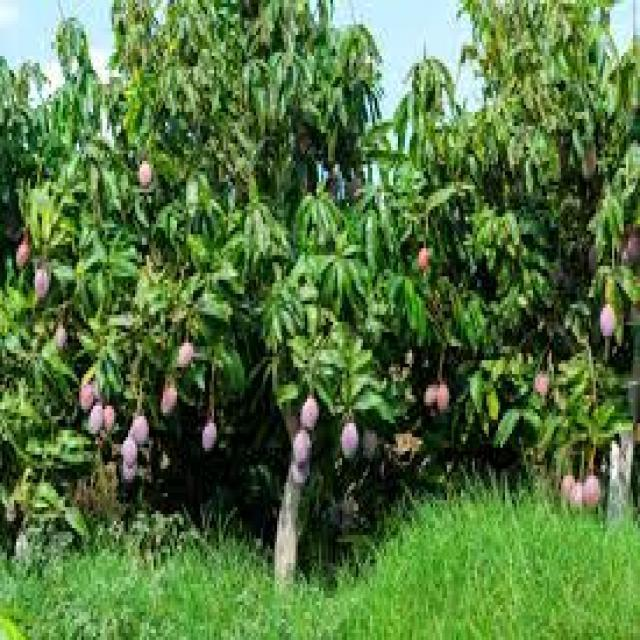tree: (64, 11, 531, 617)
